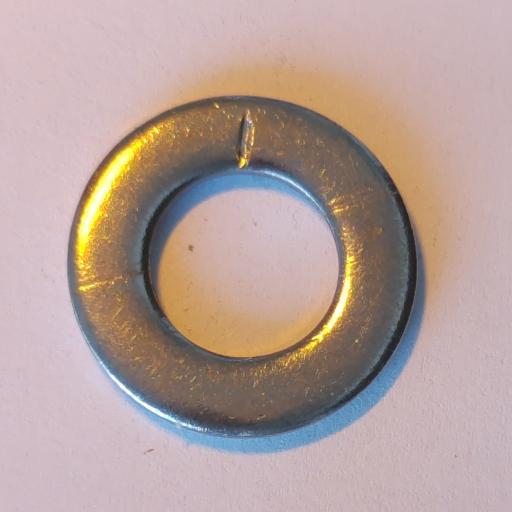scratch: (237, 109, 255, 169)
